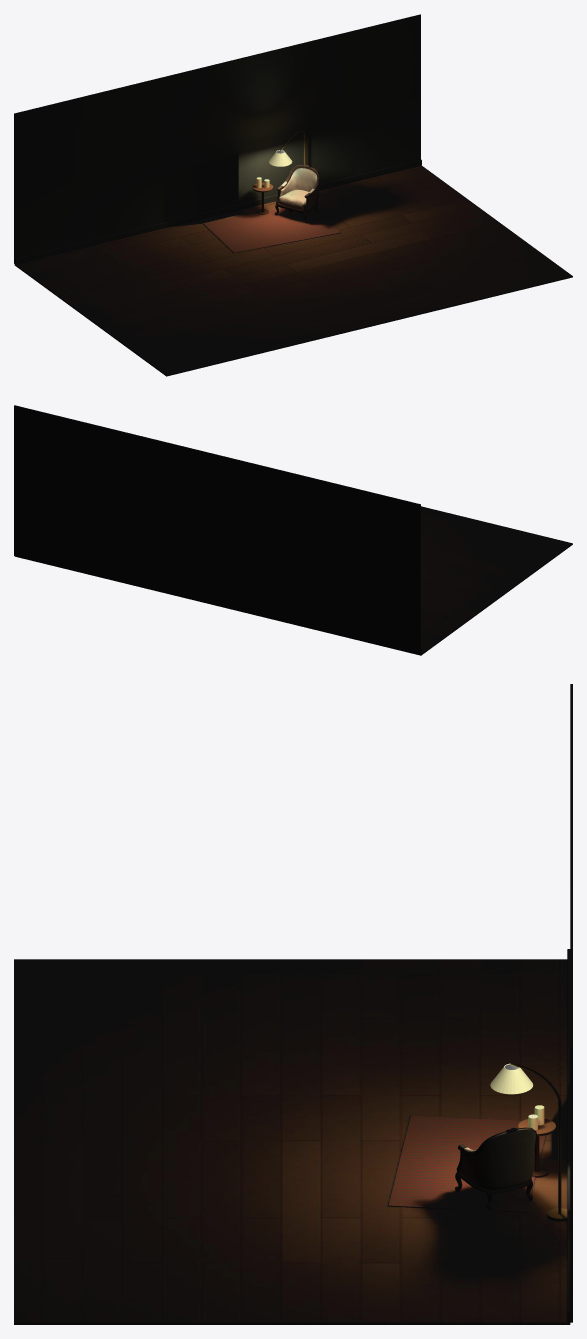
File: room-polyhaven.glb
3 views of the same model, one above another, from view 1: azimuth 30°, elevation 25°; view 2: azimuth 150°, elevation 25°; view 3: azimuth 270°, elevation 25° (orthographic). The views are drawn at different scales.
Parts seen in each view (by area): view 1: room_shell, room_chair, room_furniture; view 2: room_shell; view 3: room_shell, room_chair, room_furniture.
Boxes of the visible parts, box(x1,y1,x2,y2) form: room_shell: box(14, 14, 572, 376); room_chair: box(275, 164, 320, 222); room_furniture: box(252, 130, 305, 214); room_shell: box(14, 405, 572, 655); room_shell: box(14, 684, 572, 1324); room_chair: box(455, 1127, 536, 1209); room_furniture: box(490, 1063, 567, 1220).
Size of the model in its own units: 34 by 12.1 by 22.1.
Materials: 3 (3 with a texture image).
